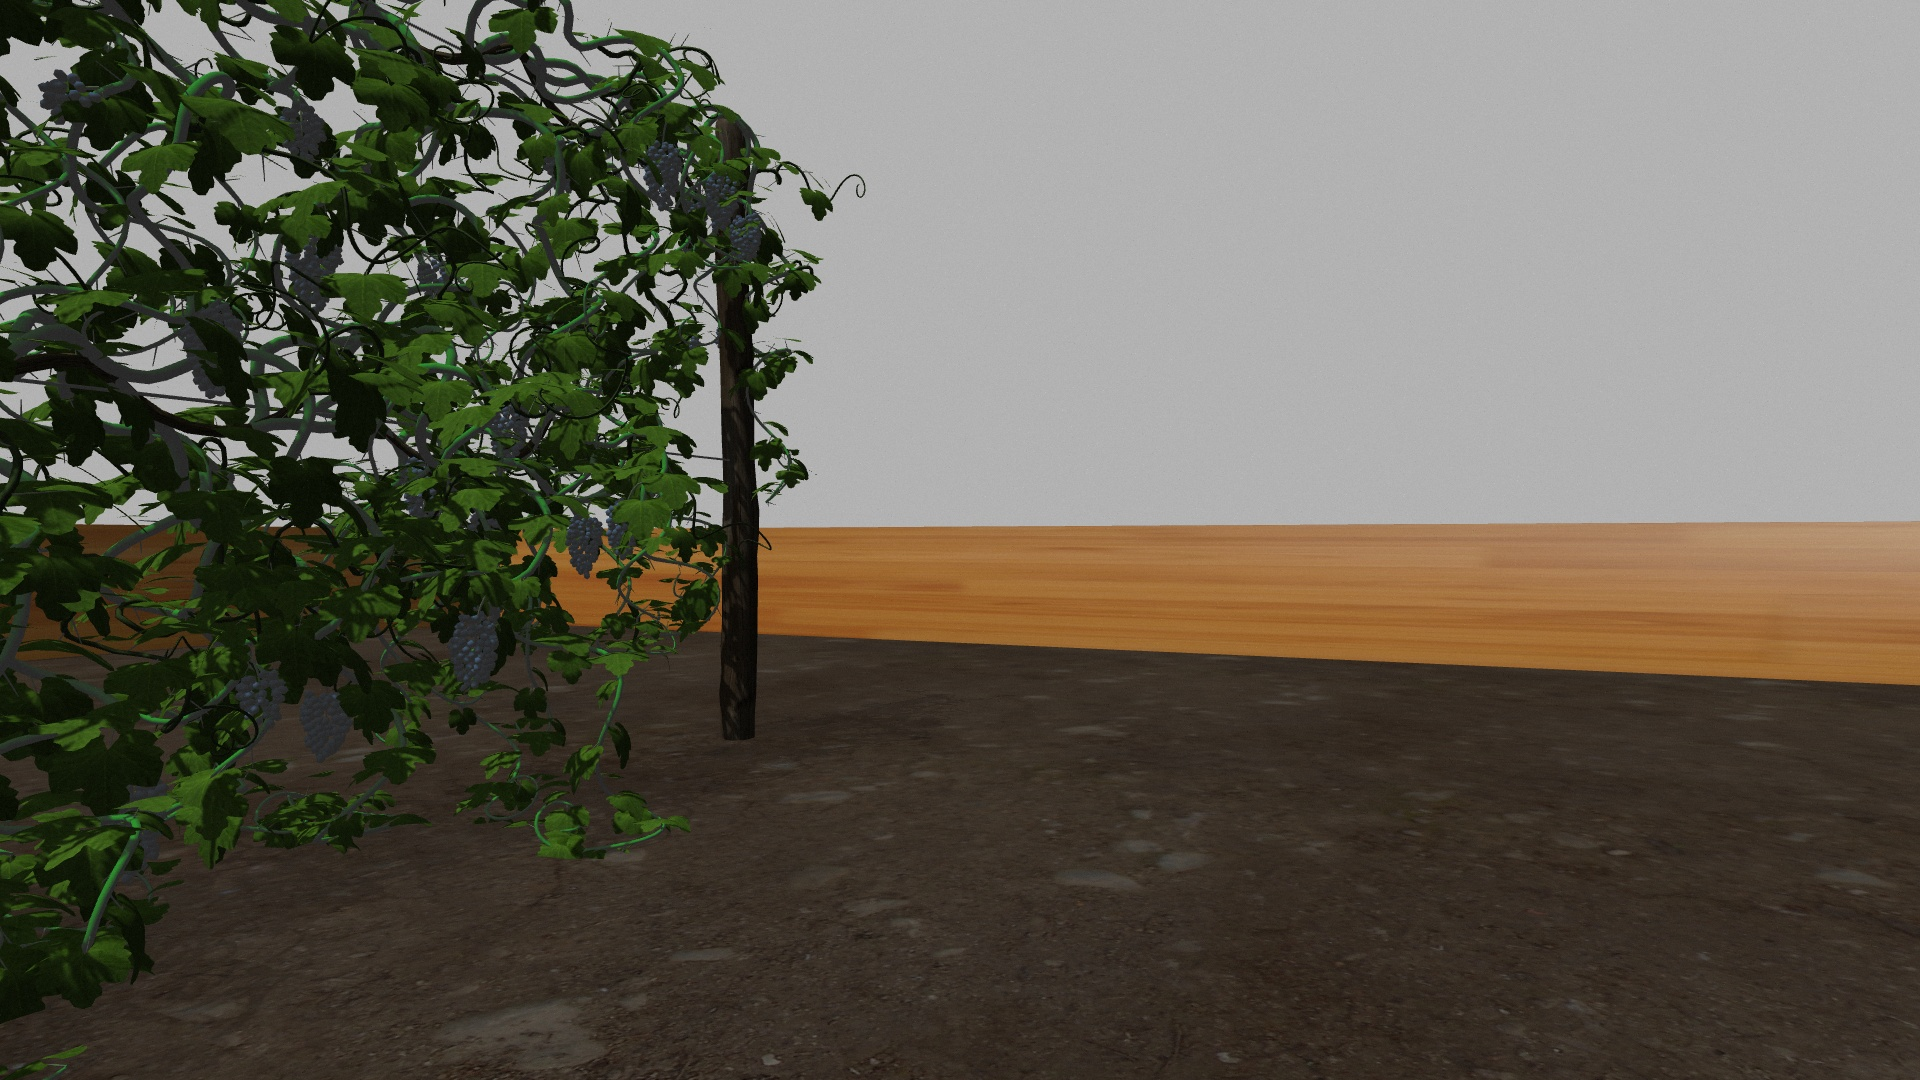grape: (183, 305, 243, 398), (282, 228, 343, 313), (448, 611, 501, 691), (298, 688, 351, 761), (235, 669, 289, 735), (40, 71, 100, 120), (281, 105, 327, 166), (645, 137, 683, 208), (566, 516, 603, 579), (491, 398, 529, 456), (704, 173, 738, 231), (731, 214, 764, 264), (607, 504, 636, 560)
